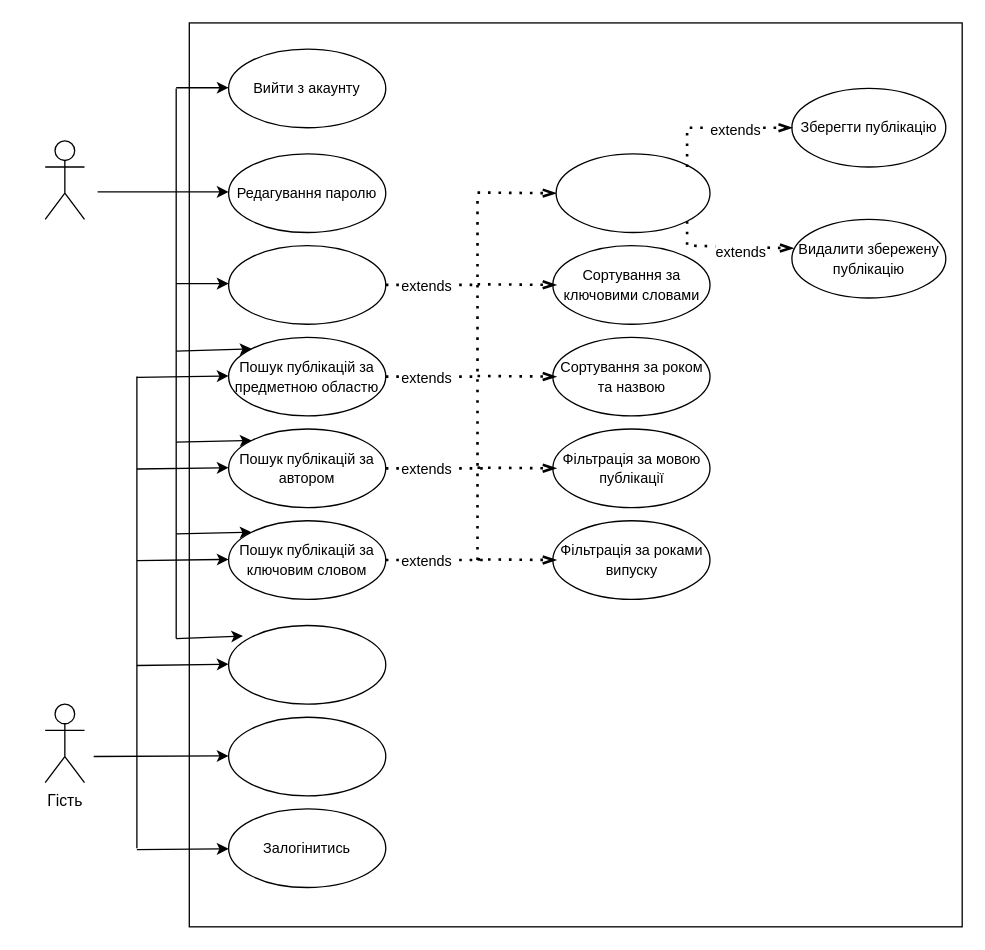
The diagram is 985 pixels wide and 950 high, and some of its shapes have lost their labels. The centre of each missing label's shape, as x and y in pixels:
"Зареєструватись" belongs at pixel 306 756.
"Користувач" belongs at pixel 64 179.
"Перегляд детальної інформації публікації" belongs at pixel 632 193.
"Перегляд збережених публікацій" belongs at pixel 306 284.
"Переглянути вітальну сторінку" belongs at pixel 306 664.
